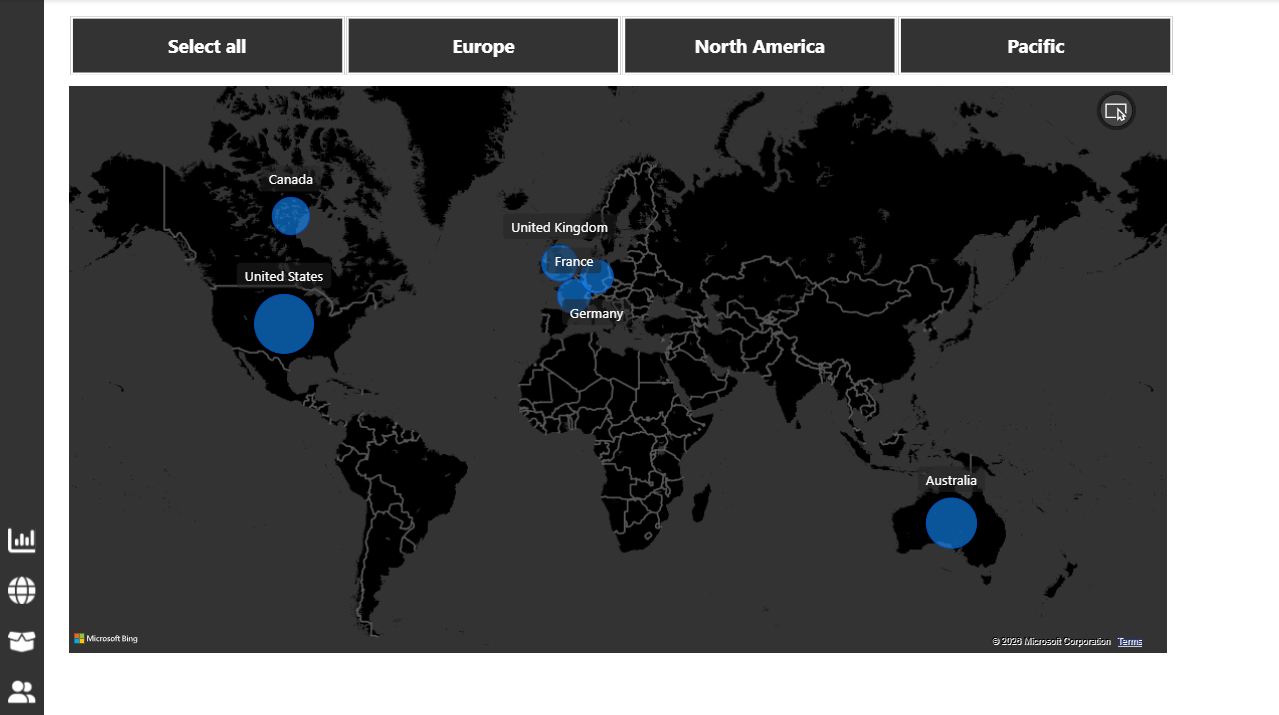

The page's visual inventory and layout, read from the dashboard file:
{"tool":"powerbi","page":{"name":"Map","canvas":[1280,720],"ordinal":1},"visuals":[{"type":"shape","box":[0,0,45,720],"z":0},{"type":"actionButton","box":[4.4,518.9,35.6,40],"z":0,"group":"g1"},{"type":"map","fields":{"Category":["Territory Lookup.Country"],"Size":["Measure Table.Total Orders"]},"box":[65,82.5,1102.5,573.8],"z":1000},{"type":"actionButton","box":[4.4,619.6,35.6,40],"z":1000,"group":"g1"},{"type":"slicer","fields":{"Values":["Territory Lookup.Continent"]},"box":[45,10,1147.5,72.5],"z":2000},{"type":"actionButton","box":[4.4,670,35.6,40],"z":2000,"group":"g1"},{"type":"group","id":"g1","title":"Navigation Buttons","box":[4.4,518.9,35.6,191.1],"z":3000},{"type":"actionButton","box":[4.4,569.3,35.6,40],"z":3000,"group":"g1"}]}

Visuals, with their boxes on the page's 1280x720 design canvas (x1, y1, x2, y2). These are canvas units, not pixel positions in the 1279x715 screenshot, which may show the page scaled, cropped or inside an application window:
shape: BBox(0, 0, 45, 720)
actionButton: BBox(4, 519, 40, 559)
map - Territory Lookup.Country x Measure Table.Total Orders: BBox(65, 82, 1168, 656)
actionButton: BBox(4, 620, 40, 660)
slicer - Territory Lookup.Continent: BBox(45, 10, 1192, 82)
actionButton: BBox(4, 670, 40, 710)
"Navigation Buttons" group: BBox(4, 519, 40, 710)
actionButton: BBox(4, 569, 40, 609)
